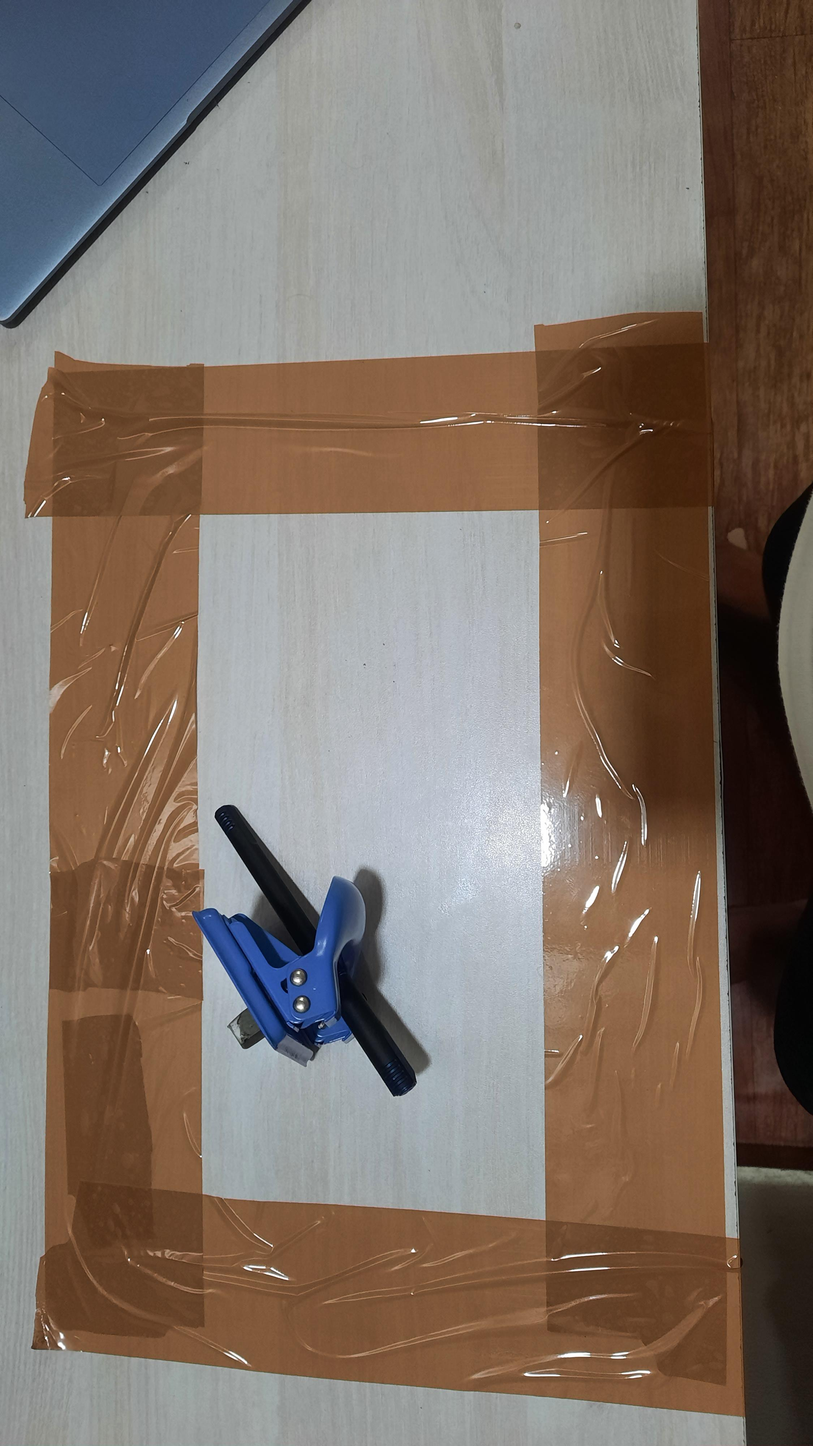Pen: (214, 804, 417, 1098)
Punch: (192, 875, 367, 1068)
